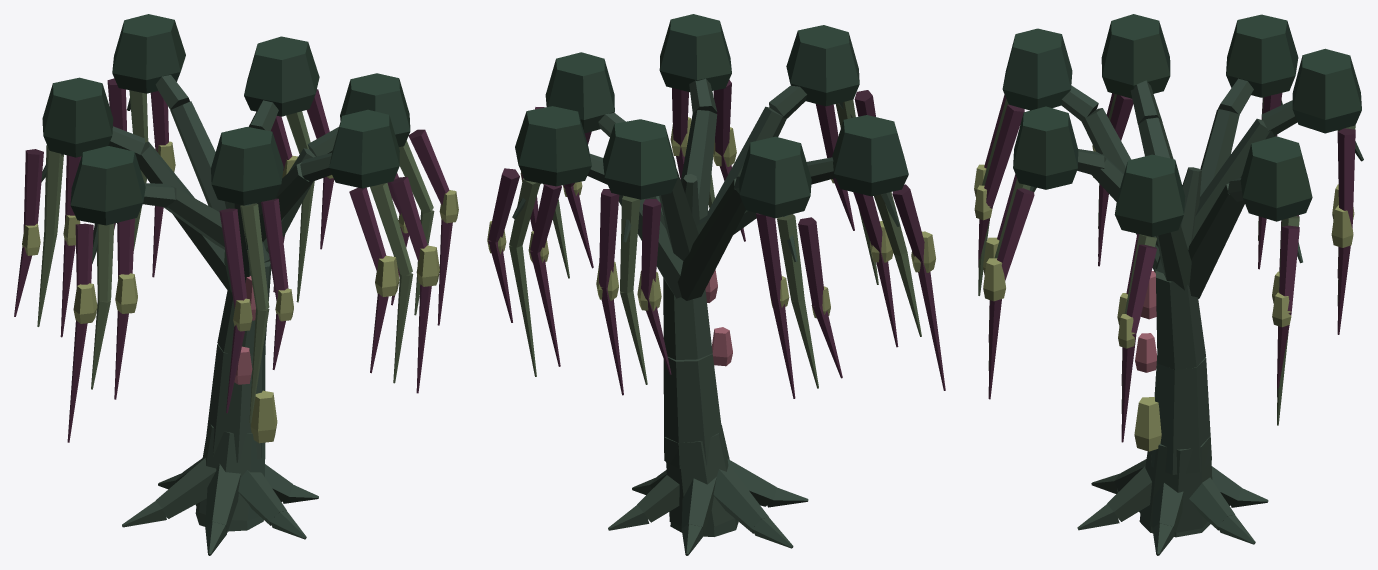
The model's file is marsh-willow-bloomed.glb.
3 renders of one model, left to right at view 1: azimuth 30°, elevation 25°; view 2: azimuth 150°, elevation 25°; view 3: azimuth 270°, elevation 25°, orthographic. The views are drawn at different scales.
Visible parts, largest first — view 1: Marsh willow · bloomed; view 2: Marsh willow · bloomed; view 3: Marsh willow · bloomed.
Part boxes in pixels (left/top/right/bottom): Marsh willow · bloomed: left=14, top=14, right=458, bottom=555; Marsh willow · bloomed: left=487, top=14, right=945, bottom=555; Marsh willow · bloomed: left=974, top=14, right=1363, bottom=555.
Size of the model in its own units: 2.33 by 2.42 by 1.88.
